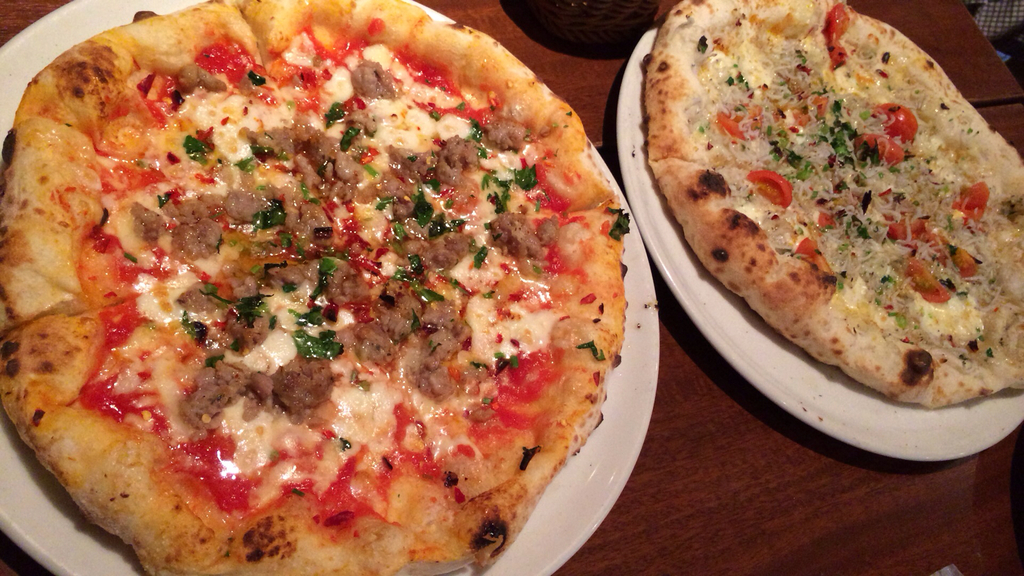Pizza: (19, 3, 651, 564), (644, 0, 1023, 412)
